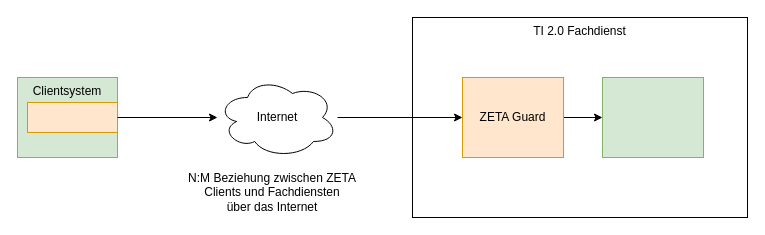
This 765x235 diagram has some shape labels left out. Each missing label, with the centre of its shape:
Resource Server: point 653,117
ZETA Client: point 72,117
